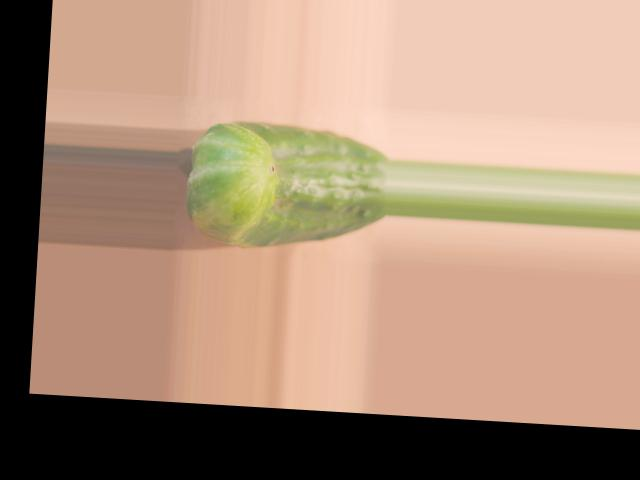cucumber: (184, 117, 391, 254)
